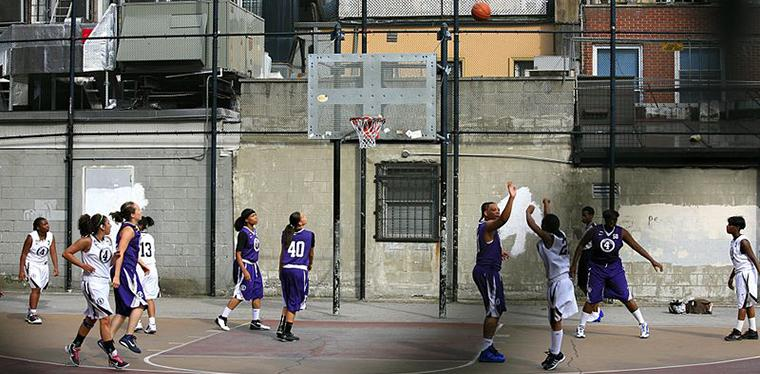basketball: (469, 3, 493, 23)
